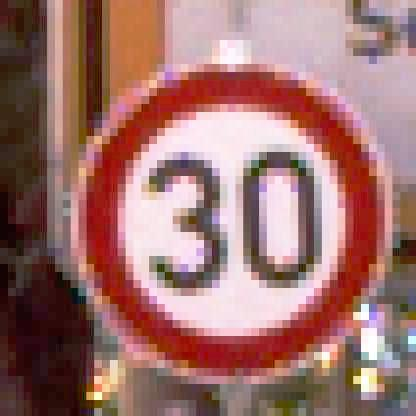Speed Limit -30-: (72, 66, 391, 384)
